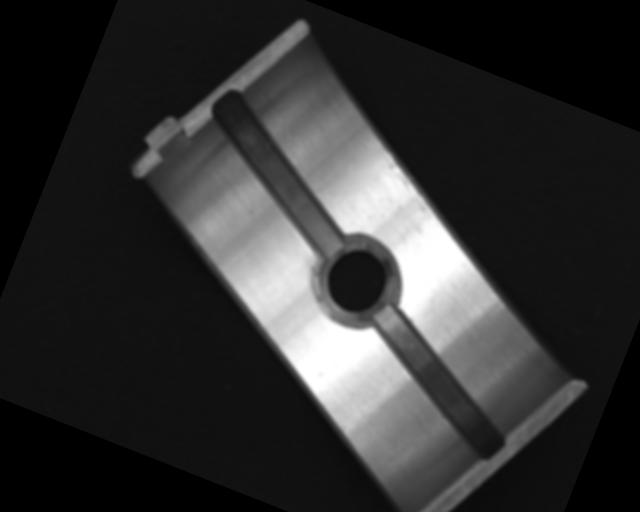gap: (177, 81, 380, 261), (340, 302, 533, 464)
hole: (308, 232, 404, 338)
